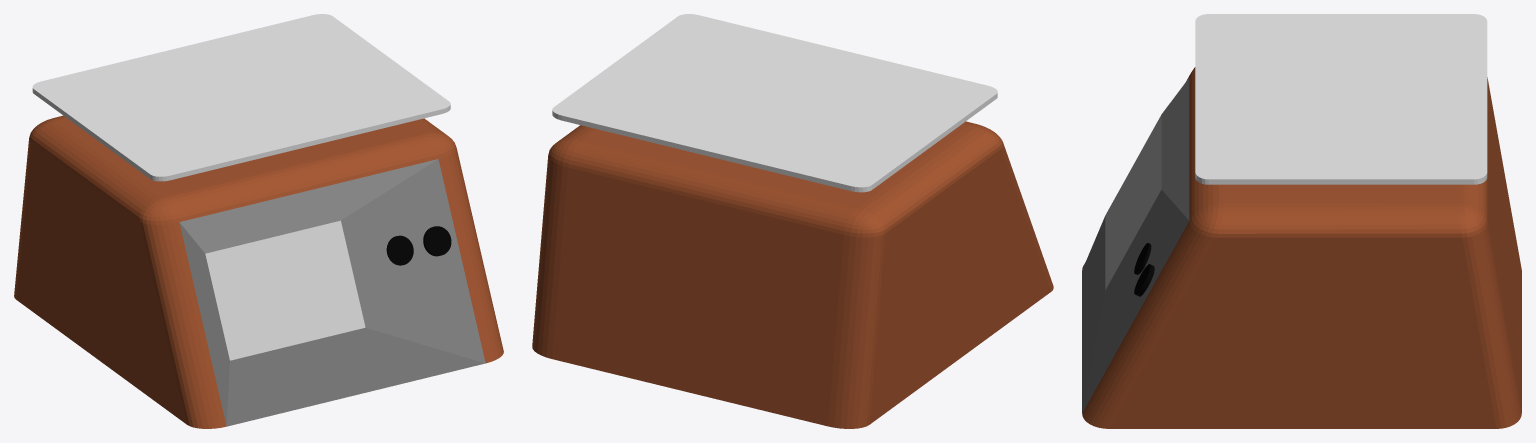
File: gramera.fbx
3 renders of one model, left to right at view 1: azimuth 30°, elevation 25°; view 2: azimuth 150°, elevation 25°; view 3: azimuth 270°, elevation 25°, orthographic. The views are drawn at different scales.
Visible parts, largest first — view 1: Cube, Vidrio, Boton1.001, Boton1; view 2: Cube, Vidrio; view 3: Cube, Vidrio.
Boxes of the visible parts, bbox=[...] form: Cube: bbox=[14, 115, 503, 428]; Vidrio: bbox=[32, 14, 450, 181]; Boton1.001: bbox=[423, 226, 451, 256]; Boton1: bbox=[386, 235, 413, 265]; Cube: bbox=[532, 121, 1053, 428]; Vidrio: bbox=[552, 14, 997, 192]; Cube: bbox=[1082, 67, 1521, 428]; Vidrio: bbox=[1195, 14, 1487, 184].
Bounding box in the file's own units: 356 × 234 × 380.
